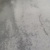others: (1, 1, 35, 50)
